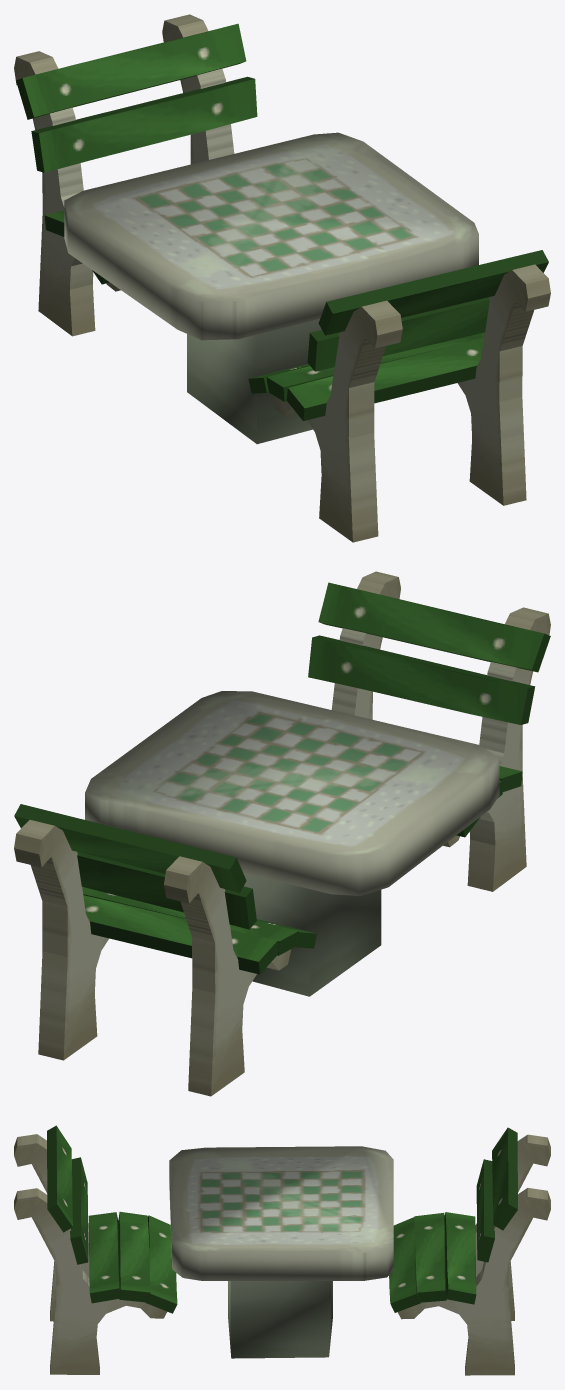
The model's file is chesstable.fbx.
The picture shows the model from 3 angles, top to bottom: view 1: azimuth 30°, elevation 25°; view 2: azimuth 150°, elevation 25°; view 3: azimuth 270°, elevation 25°; orthographic projection. The views are drawn at different scales.
Parts seen in each view (by area): view 1: table, bench_1, bench_2; view 2: table, bench_2, bench_1; view 3: table, bench_1, bench_2.
Part boxes in pixels (x1,y1,x2,y2): table: (64, 132, 478, 444); bench_1: (248, 250, 550, 542); bench_2: (14, 14, 257, 336); table: (85, 691, 499, 996); bench_2: (14, 804, 316, 1096); bench_1: (308, 571, 550, 891); table: (169, 1146, 393, 1358); bench_1: (14, 1125, 177, 1374); bench_2: (389, 1127, 550, 1375).
Size of the model in its own units: 82.16 by 64.36 by 175.
